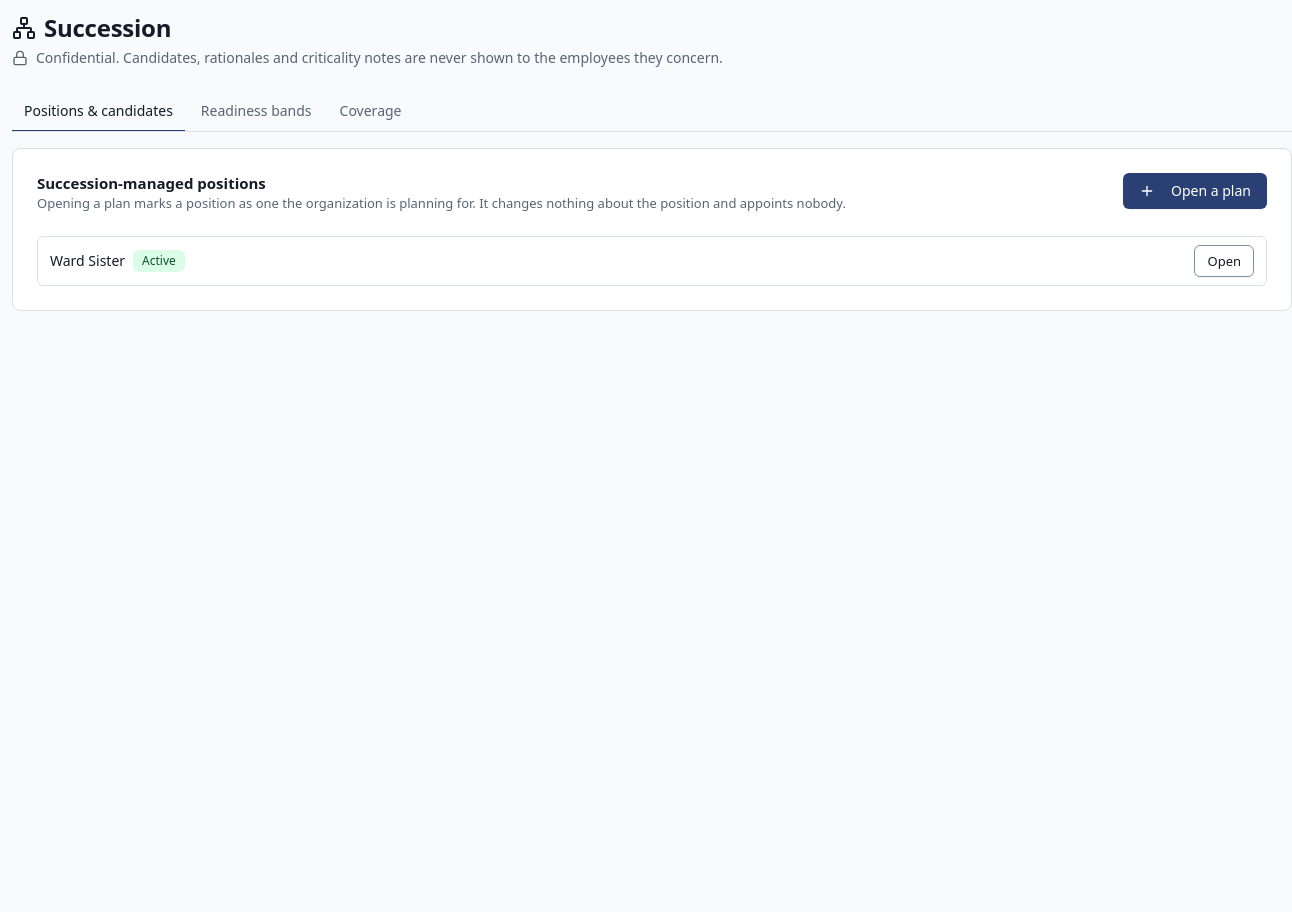
Test case: Succession workspace › groups candidates by readiness band and never ranks them (§30.12)
The width and height of the screenshot is (1292, 912).
Click the button with test id "button-open-plan-30": (1224, 261) x1=1194 y1=245 x2=1254 y2=277
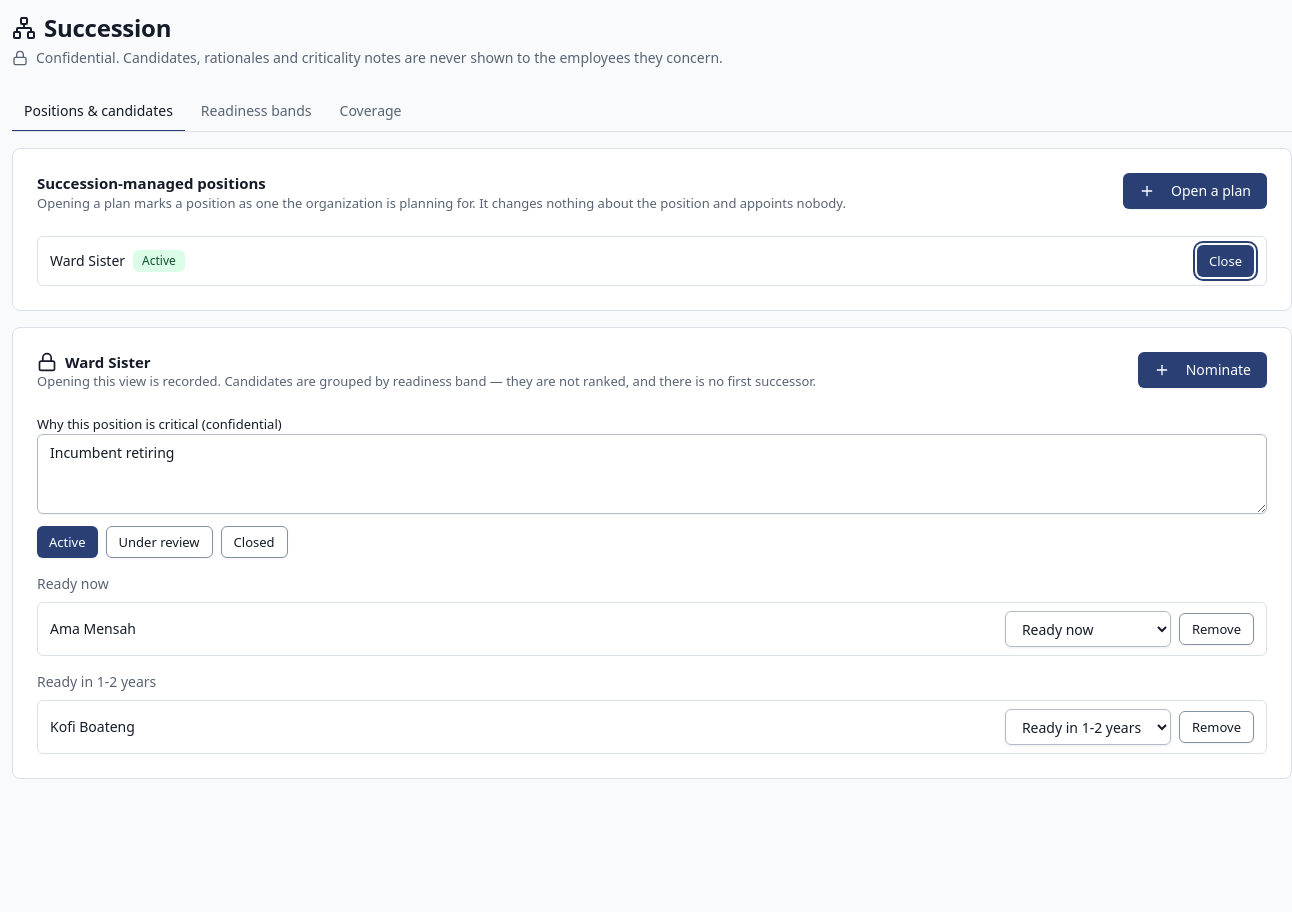
Check: the element with test id "list-candidates" shows "Ready now", box x1=37 y1=574 x2=109 y2=593
Check: the element with test id "list-candidates" shows "Ready in 1-2 years", box x1=37 y1=672 x2=156 y2=691
Check: the element with test id "row-candidate-61" shows "Ama Mensah", box x1=50 y1=619 x2=136 y2=638
